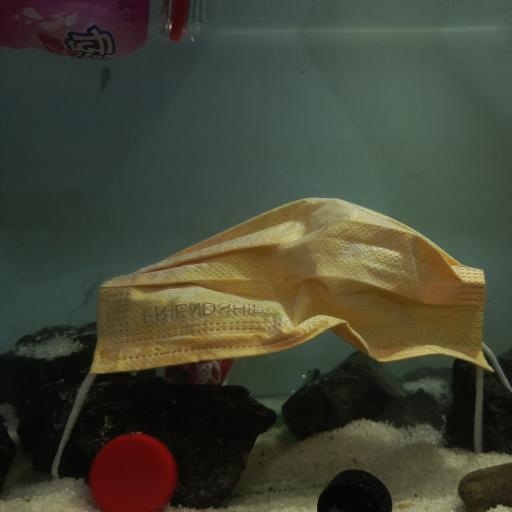bottle_cap: (86, 429, 179, 512), (315, 468, 392, 512)
mask: (88, 190, 494, 389)
plastic_bottle: (0, 0, 194, 65)
